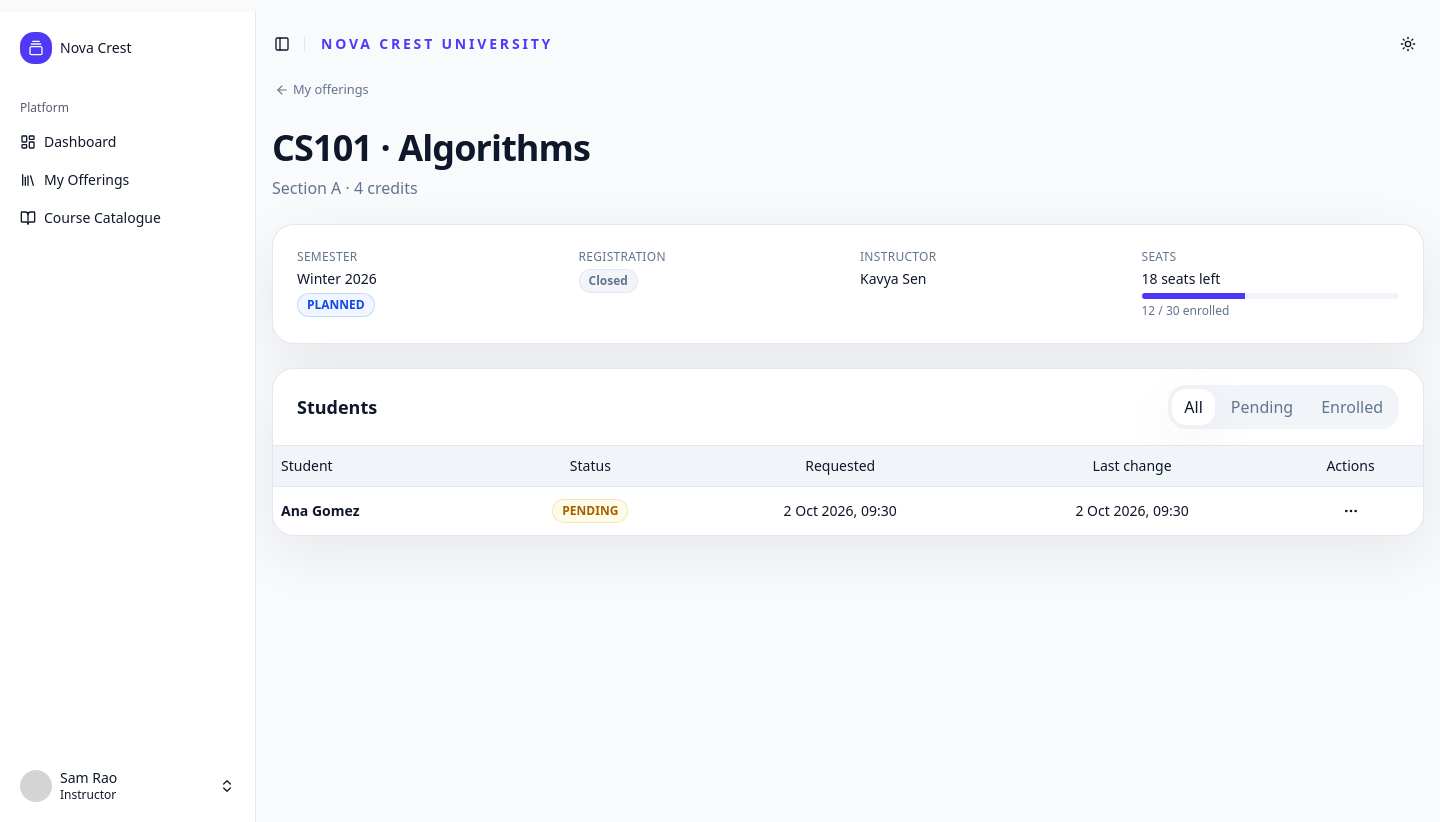
Test case: OfferingDetail › approves a request and refreshes the roster and seats
Click the button named "Actions for Ana Gomez" in the row of "Ana Gomez". click: (1350, 510)
box: 1334,494 -> 1366,526
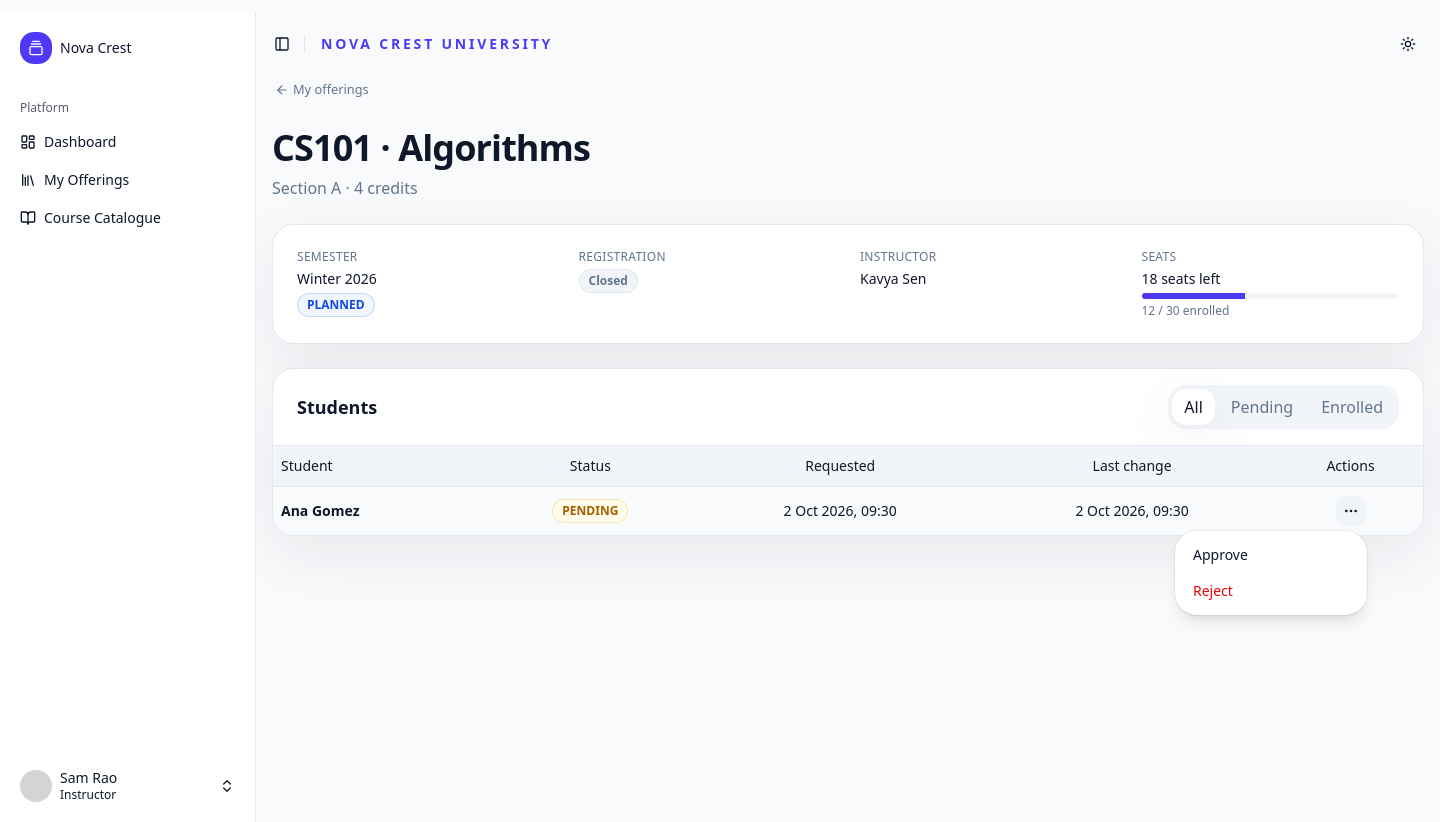
Click the menu item "Approve". click: (1220, 554)
box: 1193,545 -> 1248,564
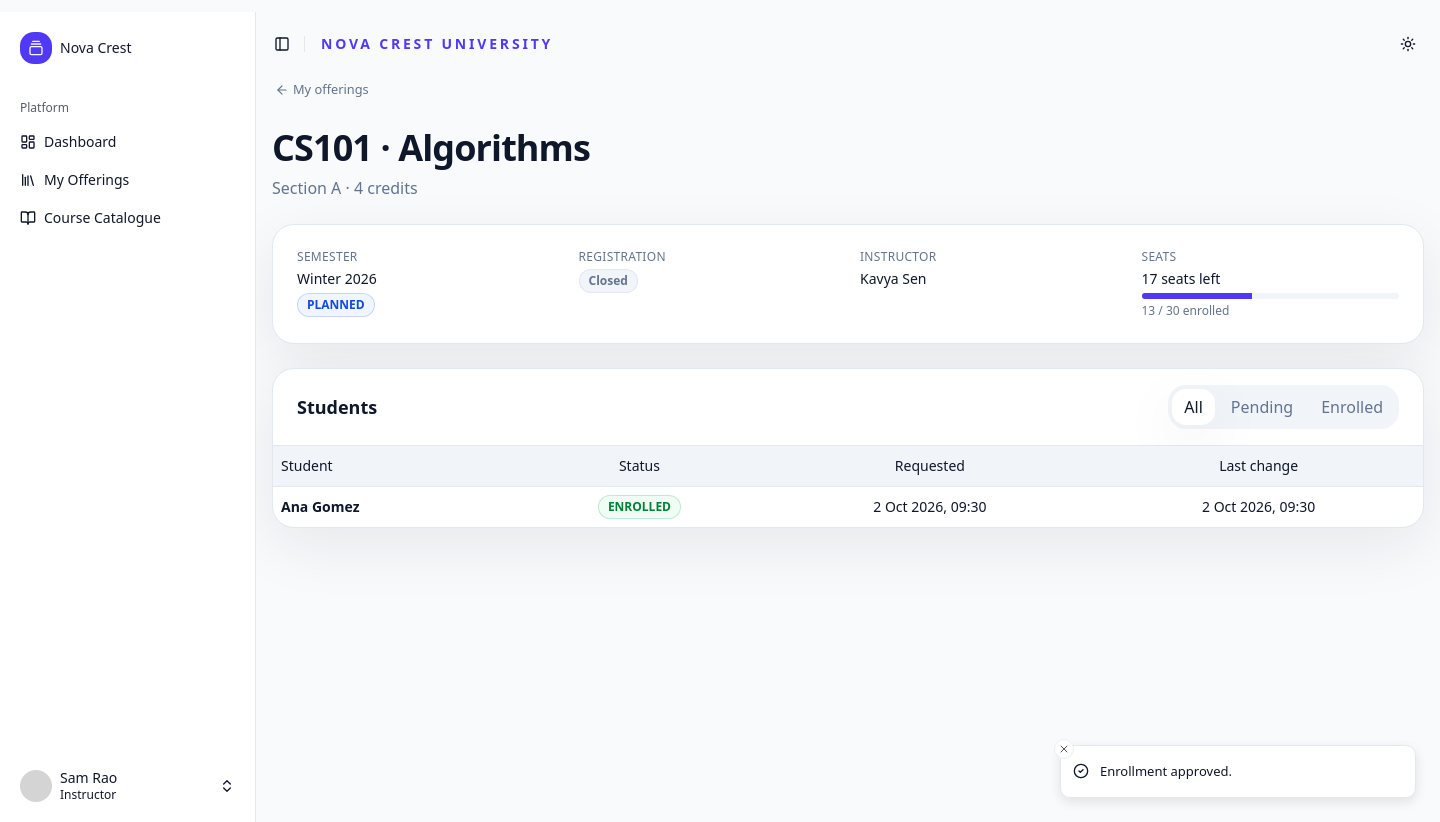
Check: the text "Enrollment approved." is shown, box 1100,762 -> 1232,781
Check: the text "17 seats left" is shown, box 1142,269 -> 1220,288
Check: the text "ENROLLED" is shown, box 598,494 -> 681,518
